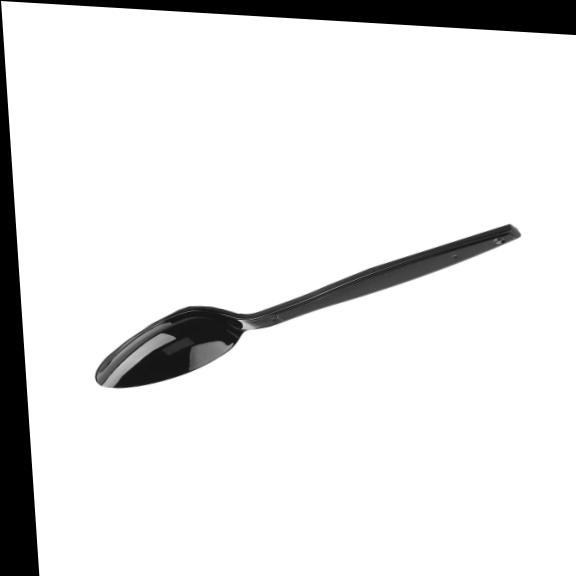Plastik: (101, 224, 519, 386)
